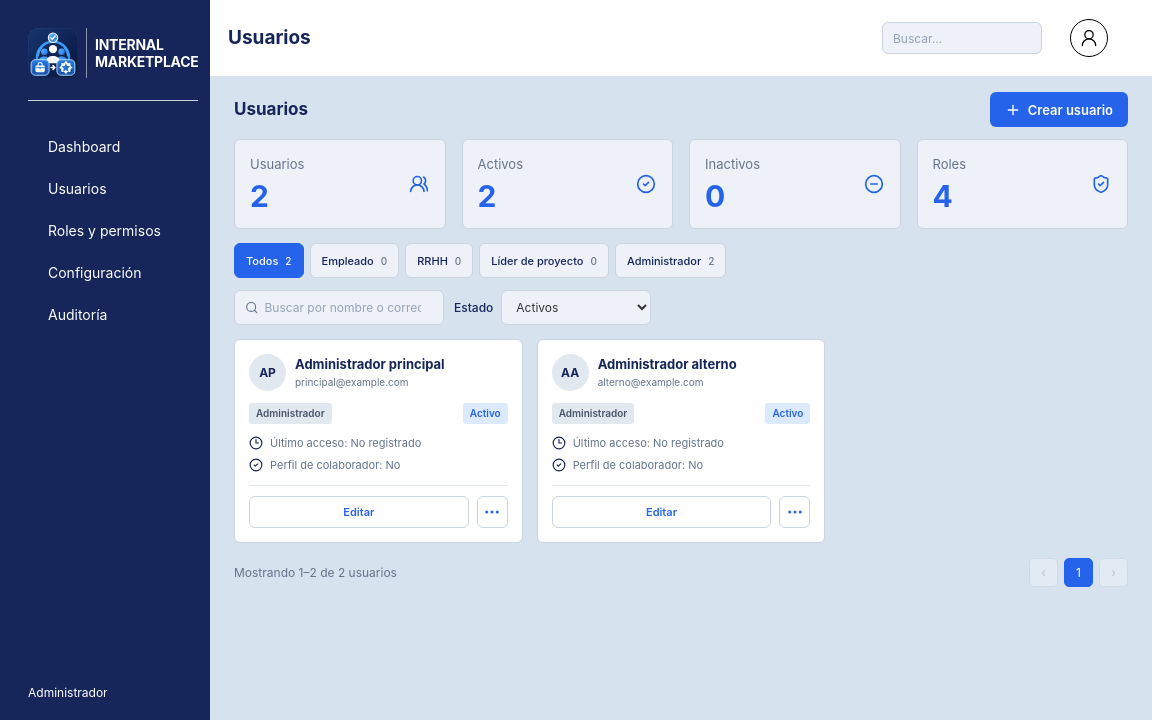
Test: proteger al último administrador activo desde la interfaz › habilita la desactivación cuando hay un segundo administrador activo
Click the button named "Opciones para Administrador principal" at (492, 512), box [477,496,508,528]
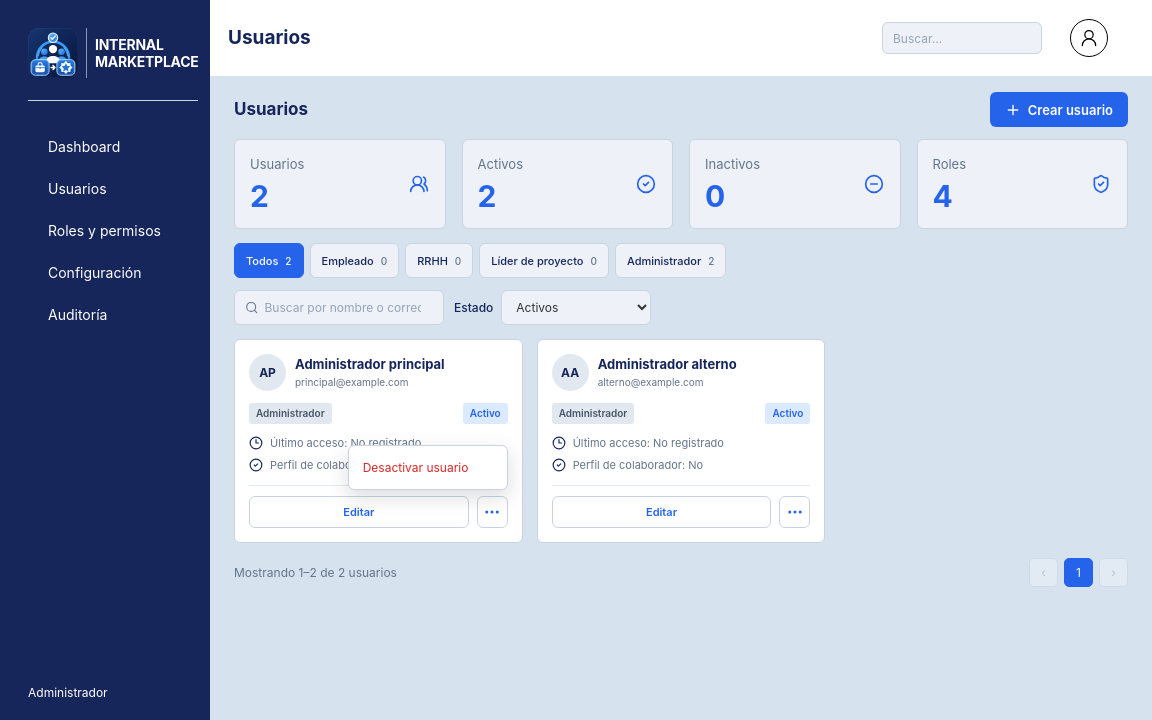
Result: the button "Desactivar usuario" is enabled at [354,451,502,484]
